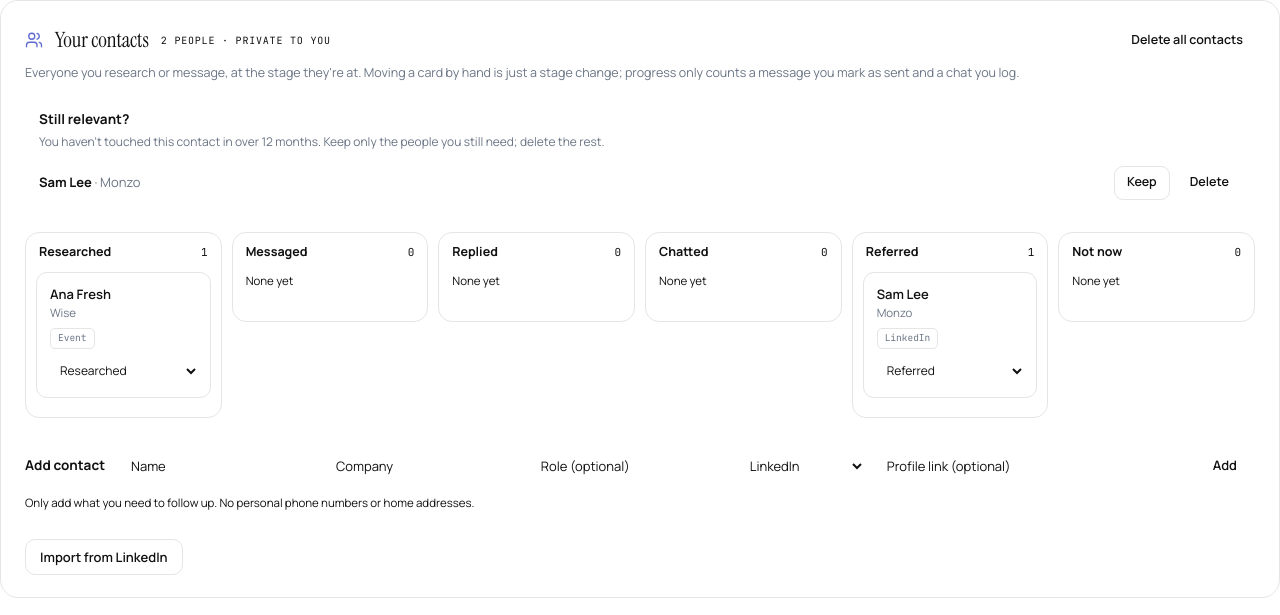
Scenario: Still relevant? card › Delete removes the contact in one click and scrubs the name from events
Click the button with aria-label "Delete Sam Lee" at (1209, 183), box [1178, 166, 1241, 200]
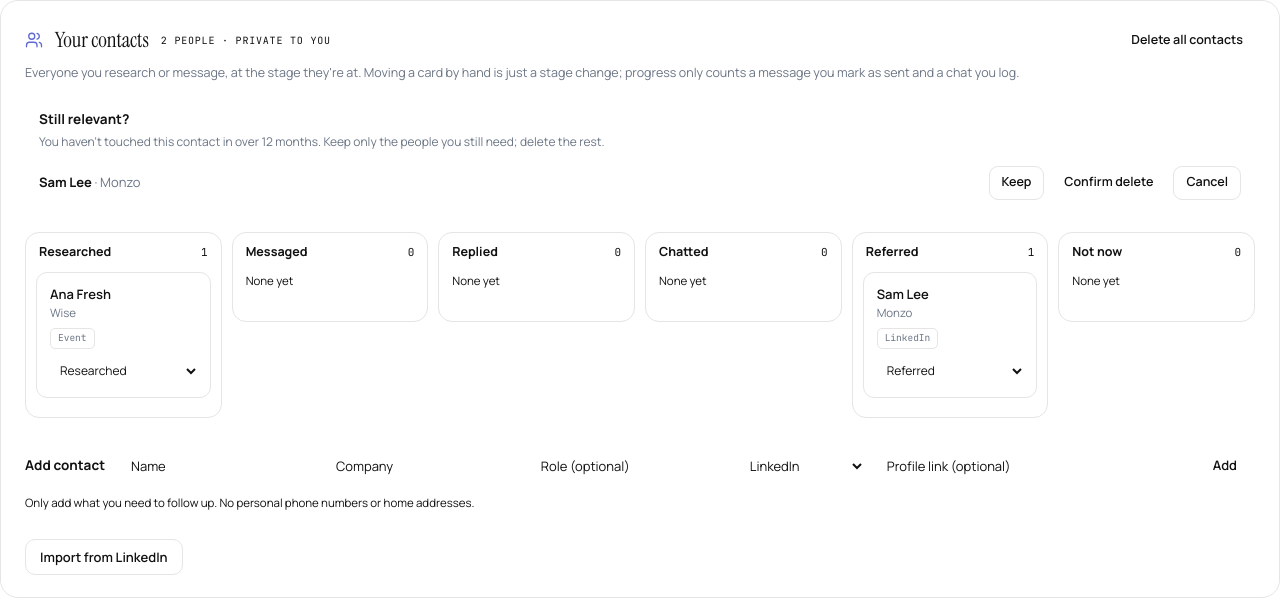
Click the button with aria-label "Confirm delete Sam Lee" at (1109, 183), box [1052, 166, 1166, 200]
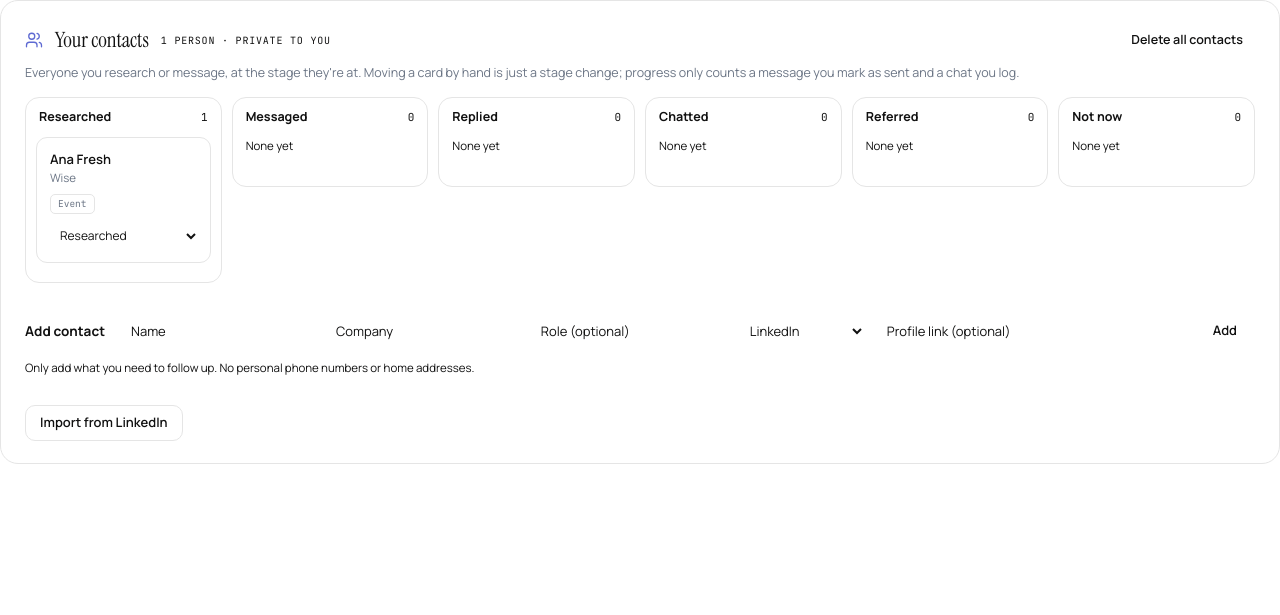
Now the heading "Still relevant?" is gone
